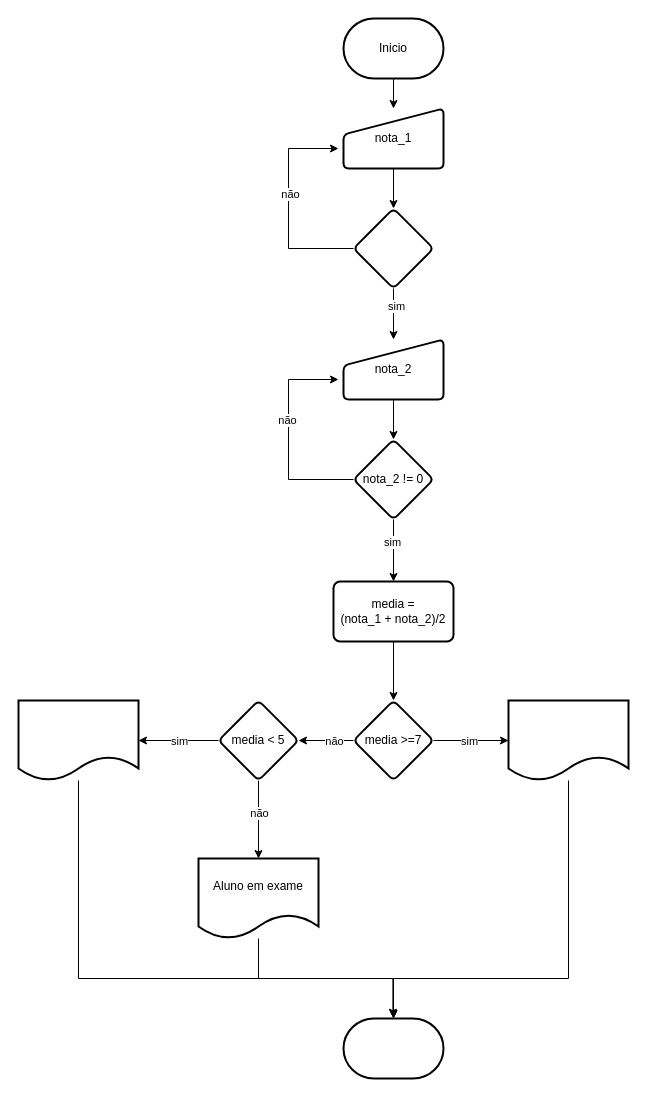
The diagram is 646 pixels wide and 1096 high, and some of its shapes have lost their labels. The shapes that lost their labels are listed below. From the top down, each one's centre as x and y in pixels, then its label:
At point (393, 248): "nota_1 != 0".
At point (78, 740): "Aluno reprovado".
At point (568, 740): "Aluno aprovado".
At point (393, 1048): "Fim".
